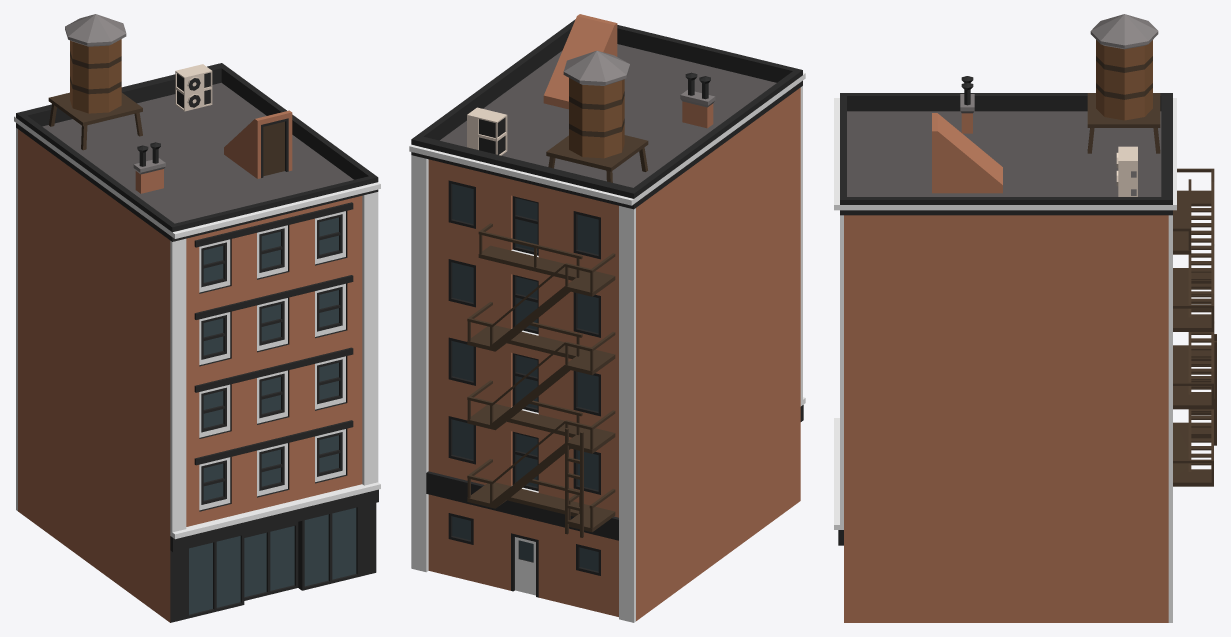
Rendered from buildings_building-block-4floor-short.fbx.
3 renders of one model, left to right at view 1: azimuth 30°, elevation 25°; view 2: azimuth 150°, elevation 25°; view 3: azimuth 270°, elevation 25°, orthographic. The views are drawn at different scales.
Visible parts, largest first — view 1: buildings_building_block_4floor_short; view 2: buildings_building_block_4floor_short; view 3: buildings_building_block_4floor_short.
Part boxes in pixels (x1,y1,x2,y2): buildings_building_block_4floor_short: (14, 14, 380, 622); buildings_building_block_4floor_short: (409, 14, 805, 622); buildings_building_block_4floor_short: (834, 14, 1216, 622).
Size of the model in its own units: 86.38 by 200 by 130.
